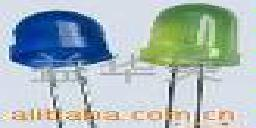LED: (136, 1, 245, 106), (5, 9, 113, 86)
